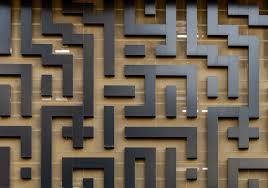maze: (1, 1, 268, 188)
